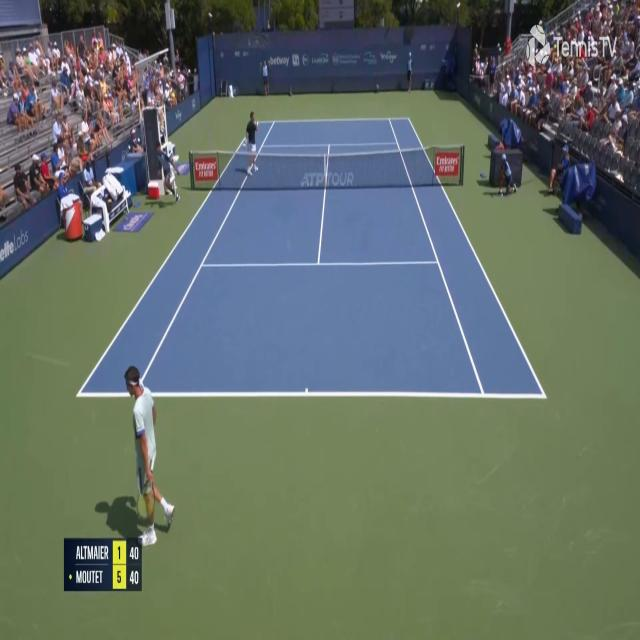tennis-player: (117, 366, 181, 554), (242, 108, 262, 178)
